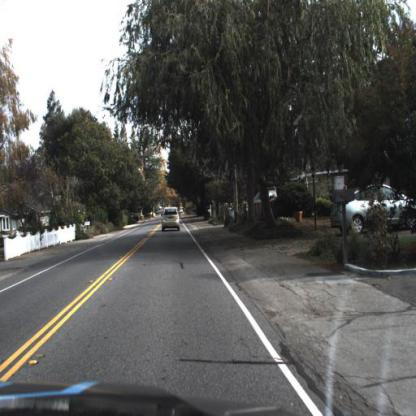car: (329, 180, 416, 245), (162, 203, 184, 237), (250, 186, 282, 206)
